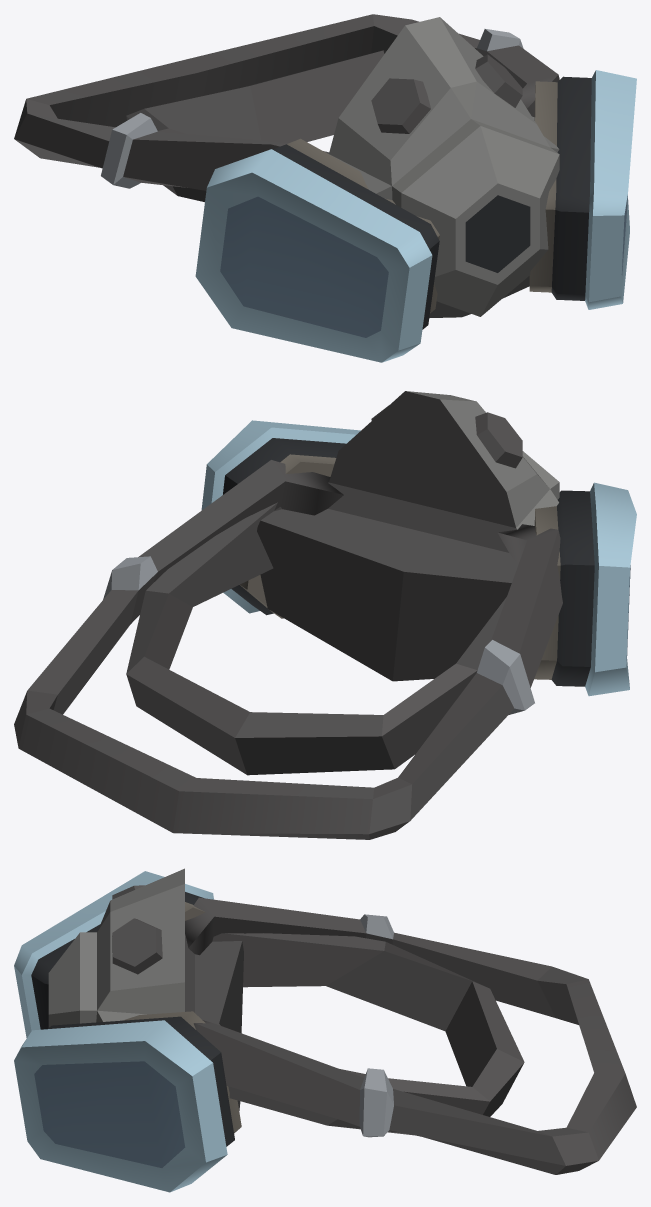
Rendered from SM_Item_FilterMask_01.fbx.
3 views of the same model, one above another, from view 1: azimuth 30°, elevation 25°; view 2: azimuth 150°, elevation 25°; view 3: azimuth 270°, elevation 25° (orthographic). The views are drawn at different scales.
Parts seen in each view (by area): view 1: SM_Item_FilterMask_01; view 2: SM_Item_FilterMask_01; view 3: SM_Item_FilterMask_01.
Boxes of the visible parts, x1,y1,x2,y2 form: SM_Item_FilterMask_01: [14, 14, 636, 362]; SM_Item_FilterMask_01: [14, 391, 636, 839]; SM_Item_FilterMask_01: [14, 868, 636, 1192].
Bounding box in the file's own units: 28.53 × 17.67 × 39.46.
